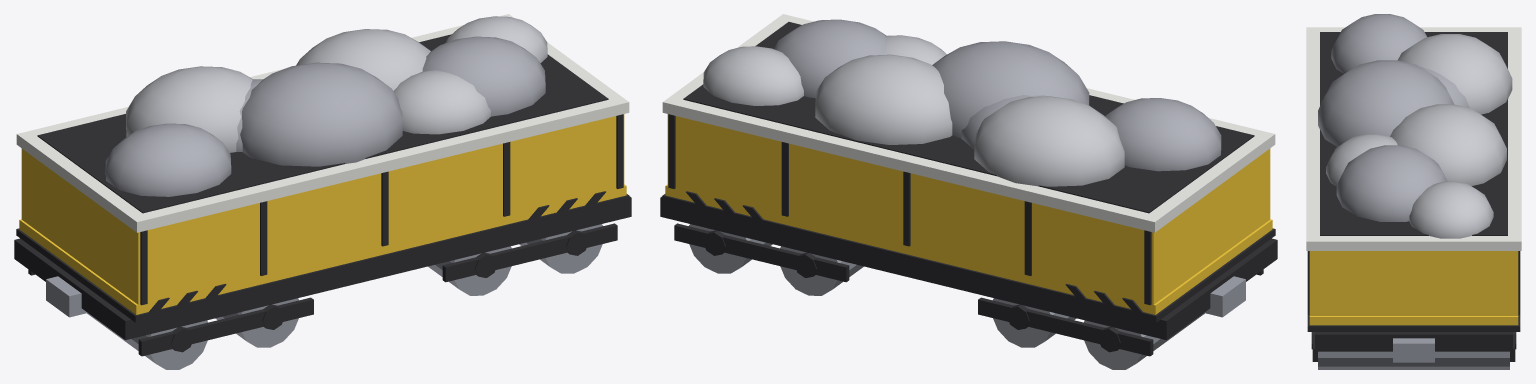
File: Cargo_rock.fbx
3 views of the same model, side by side, from view 1: azimuth 30°, elevation 25°; view 2: azimuth 150°, elevation 25°; view 3: azimuth 270°, elevation 25° (orthographic). The views are drawn at different scales.
Visible parts, largest first — view 1: Cargo_rock; view 2: Cargo_rock; view 3: Cargo_rock.
Boxes of the visible parts, x1,y1,x2,y2 form: Cargo_rock: (14, 14, 631, 369); Cargo_rock: (660, 14, 1277, 369); Cargo_rock: (1306, 14, 1521, 369).
Size of the model in its own units: 5.24 by 2.13 by 2.06.
